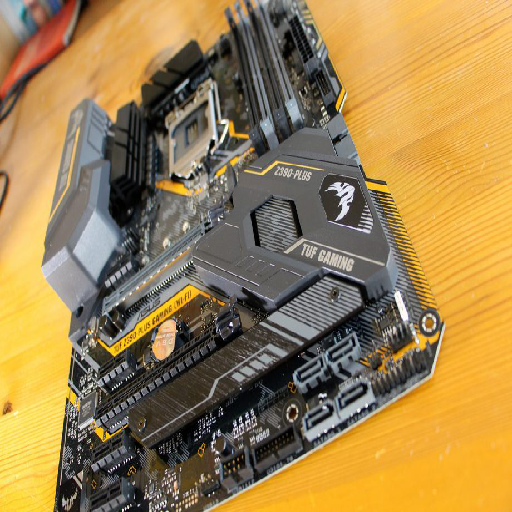CPU: (162, 84, 224, 181)
GPU: (96, 297, 244, 421), (101, 207, 219, 315)
MOTHERBOARD: (40, 1, 449, 512)
RAM: (224, 1, 305, 145)
SSD: (216, 172, 236, 202)
